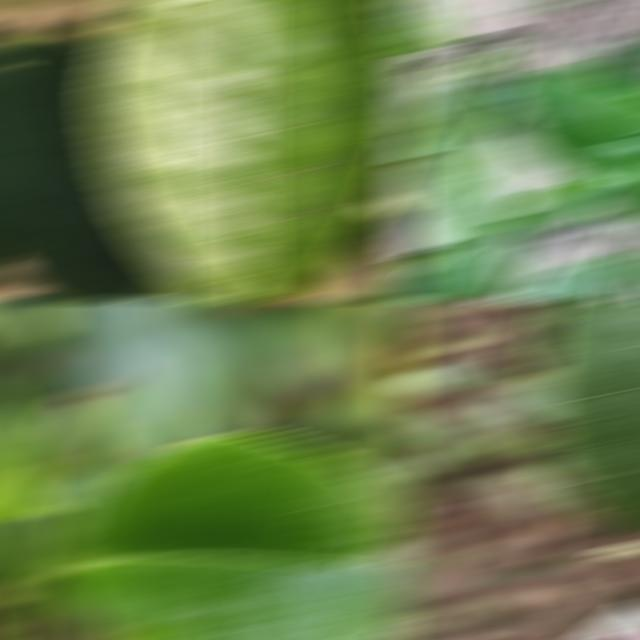Leaf: (88, 2, 414, 298), (49, 434, 414, 638), (0, 29, 208, 298), (414, 76, 527, 298), (532, 302, 640, 528), (52, 302, 232, 420), (494, 65, 640, 179), (327, 209, 414, 298), (256, 309, 348, 393), (510, 256, 631, 298), (448, 57, 508, 140), (512, 181, 602, 231), (415, 408, 502, 459), (402, 256, 500, 298), (471, 470, 555, 516), (392, 2, 460, 47), (594, 33, 640, 86), (393, 366, 499, 389), (581, 183, 640, 219), (392, 268, 433, 298)
